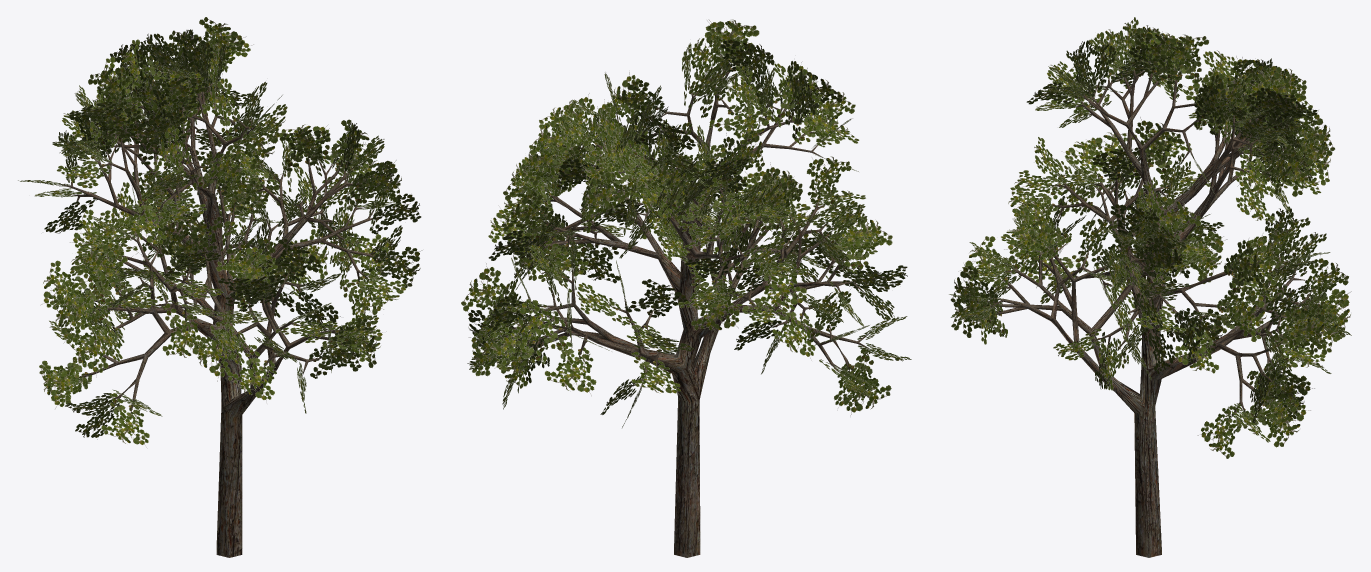
Rendered from tree-3-5.obj.
3 views of the same model, side by side, from view 1: azimuth 30°, elevation 25°; view 2: azimuth 150°, elevation 25°; view 3: azimuth 270°, elevation 25° (orthographic). The views are drawn at different scales.
Parts seen in each view (by area): view 1: Twig0, Tree0; view 2: Twig0, Tree0; view 3: Twig0, Tree0.
Boxes of the visible parts, x1,y1,x2,y2 form: Twig0: (18,17,422,448); Tree0: (59,69,384,557); Twig0: (461,19,911,427); Tree0: (506,62,870,557); Twig0: (949,17,1351,458); Tree0: (984,64,1313,557).
Bounding box in the file's own units: 3.92 × 5.24 × 3.8.
